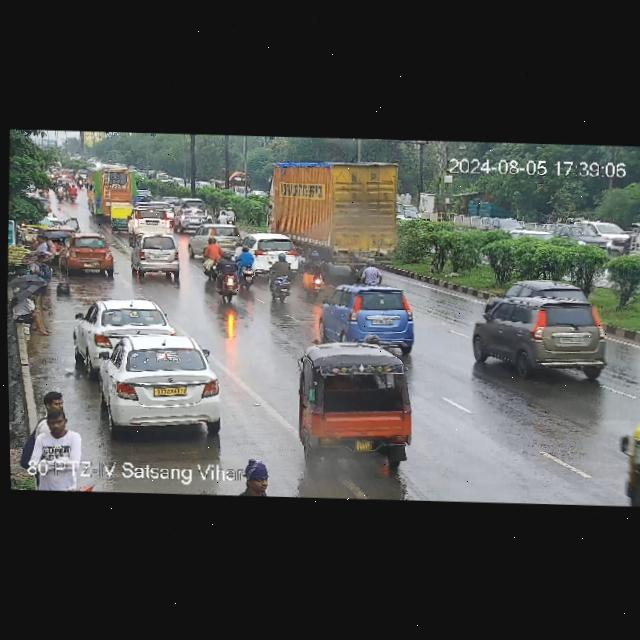bus: (83, 166, 139, 204)
car: (293, 337, 413, 468), (95, 334, 223, 432), (471, 292, 604, 379), (309, 275, 423, 357), (74, 296, 172, 360), (609, 415, 640, 507), (127, 231, 182, 279), (247, 230, 301, 272), (550, 219, 613, 253), (62, 235, 114, 273), (504, 274, 577, 295), (128, 205, 173, 239), (194, 223, 244, 248), (593, 220, 630, 251), (110, 200, 134, 235), (177, 208, 204, 231), (46, 222, 78, 241), (139, 191, 172, 204), (175, 196, 204, 208), (74, 168, 86, 181), (51, 170, 61, 179)
motorcycle: (266, 251, 292, 300), (214, 248, 237, 299), (197, 237, 221, 282), (233, 245, 256, 291), (302, 247, 323, 297), (56, 182, 78, 201), (226, 205, 237, 223), (204, 214, 215, 225), (219, 210, 226, 223), (77, 175, 82, 189), (180, 200, 189, 207), (221, 205, 228, 211), (196, 203, 204, 208)
person: (30, 407, 86, 455), (13, 289, 50, 334), (243, 459, 285, 497), (32, 252, 50, 305), (31, 392, 67, 417), (34, 234, 58, 263)
truck: (264, 157, 409, 258), (147, 168, 169, 181)
